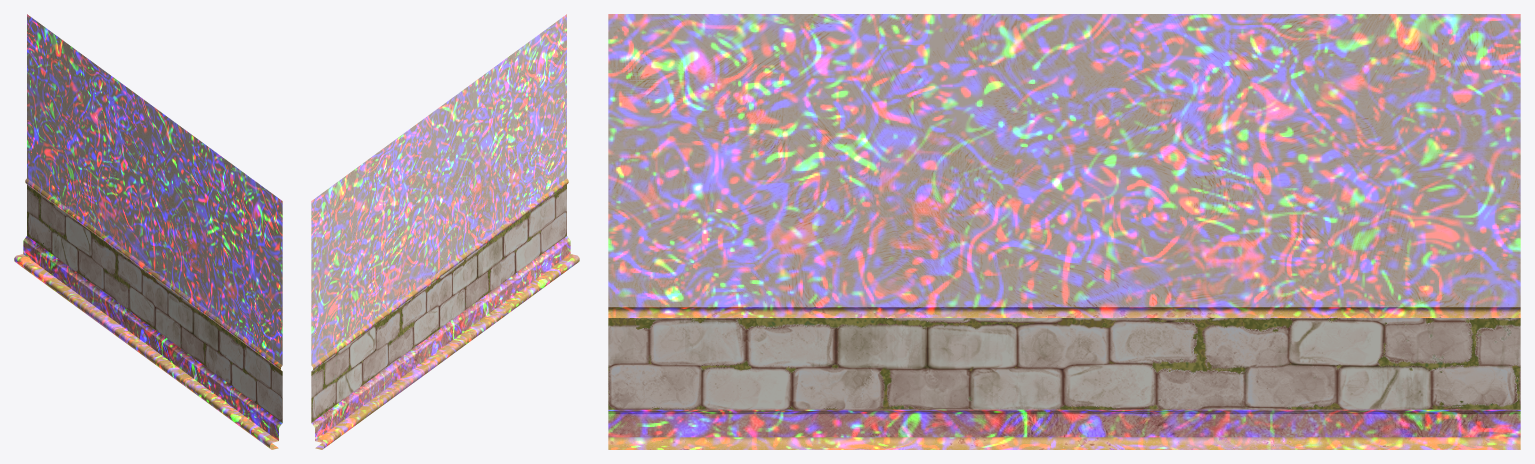
Rendered from wall_straight_SM.fbx.
3 views of the same model, side by side, from view 1: azimuth 30°, elevation 25°; view 2: azimuth 150°, elevation 25°; view 3: azimuth 270°, elevation 25° (orthographic). The views are drawn at different scales.
Parts seen in each view (by area): view 1: wall_straight_SM_LOD0; view 2: wall_straight_SM_LOD0; view 3: wall_straight_SM_LOD0.
Part boxes in pixels (x1,y1,x2,y2): wall_straight_SM_LOD0: (14,14,282,449); wall_straight_SM_LOD0: (311,14,579,449); wall_straight_SM_LOD0: (608,14,1520,449).
Size of the model in its own units: 27.88 by 977 by 519.
Materials: 4 (4 with a texture image).
